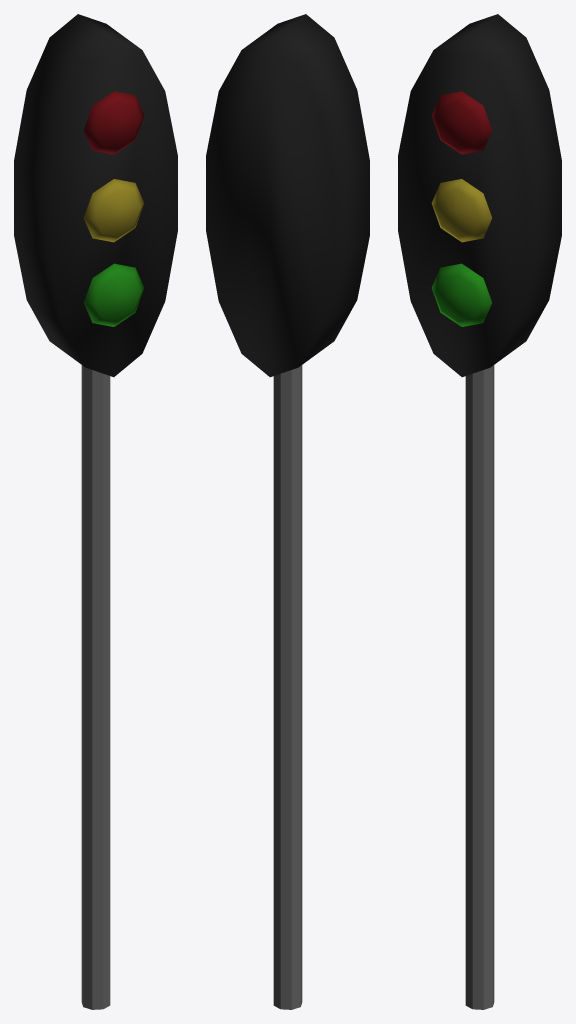
Rendered from Semaforo.fbx.
3 views of the same model, side by side, from view 1: azimuth 30°, elevation 25°; view 2: azimuth 150°, elevation 25°; view 3: azimuth 330°, elevation 25° (orthographic).
Visible parts, largest first — view 1: Cylinder.001; view 2: Cylinder.001; view 3: Cylinder.001.
Boxes of the visible parts, left/top/right/bottom form: Cylinder.001: left=14, top=14, right=177, bottom=1009; Cylinder.001: left=206, top=14, right=369, bottom=1009; Cylinder.001: left=398, top=14, right=561, bottom=1009.
Bounding box in the file's own units: 195 × 1423 × 115.
